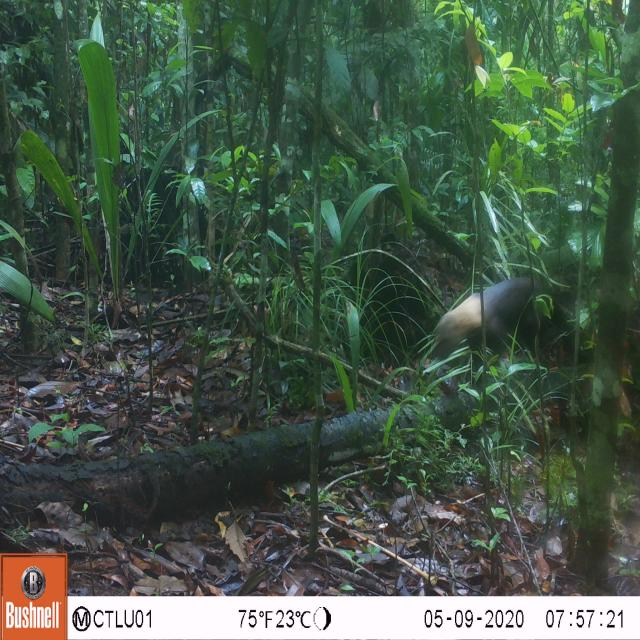Tayra: (429, 276, 538, 368)
